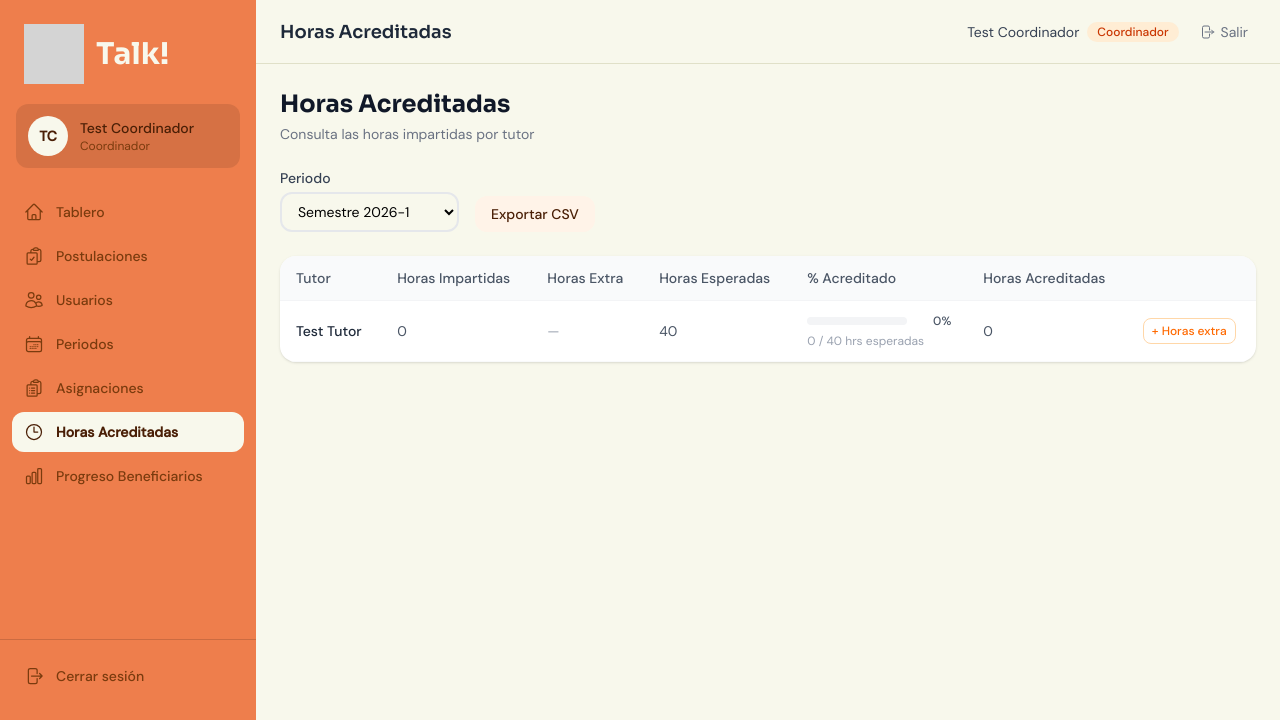
Test: INT-03 | Aprobado sin horas — coordinador acredita horas extra manualmente › Coordinador ve 0 horas impartidas y agrega horas extra al tutor manualmente
Expected: the text "0%" is shown, [933,313,951,329]
Click the button "+ Horas extra" at [1190, 331], box [1143,318,1236,344]
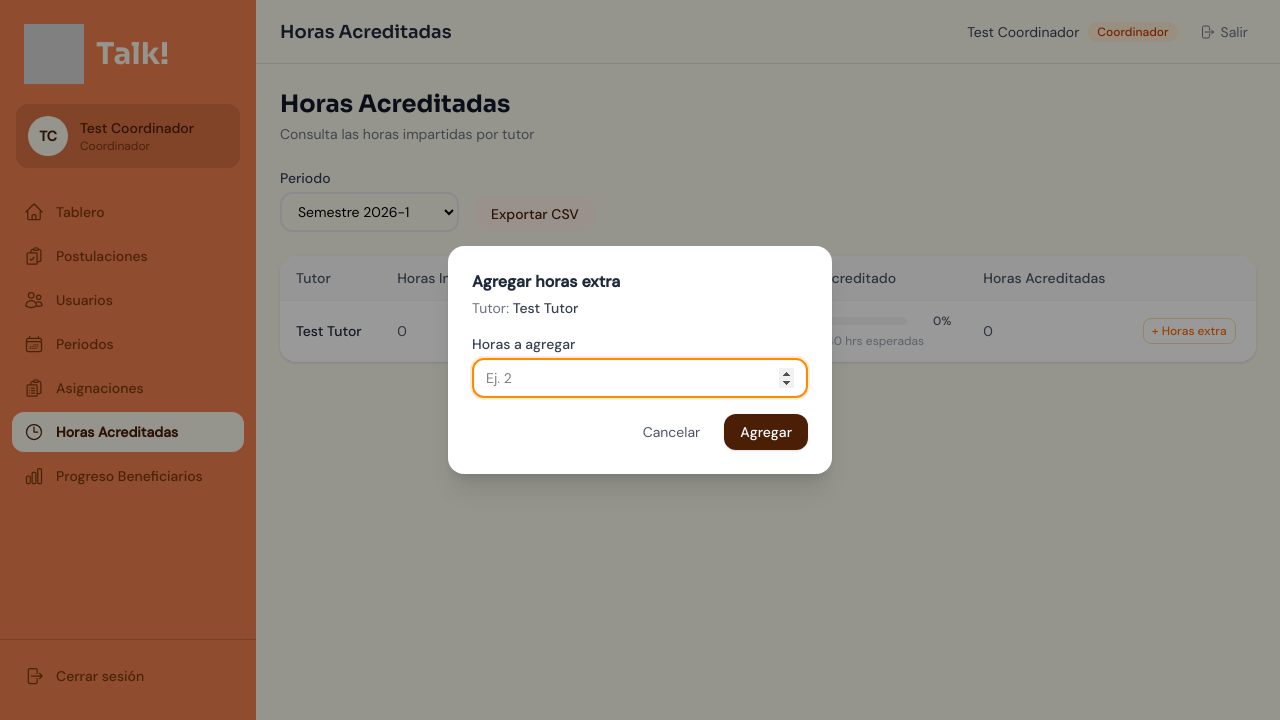
Now the heading "Agregar horas extra" is shown, box [472,271,620,292]
Type "1" into the number field with placeholder "Ej. 2" at [640, 378], box [472,358,808,398]
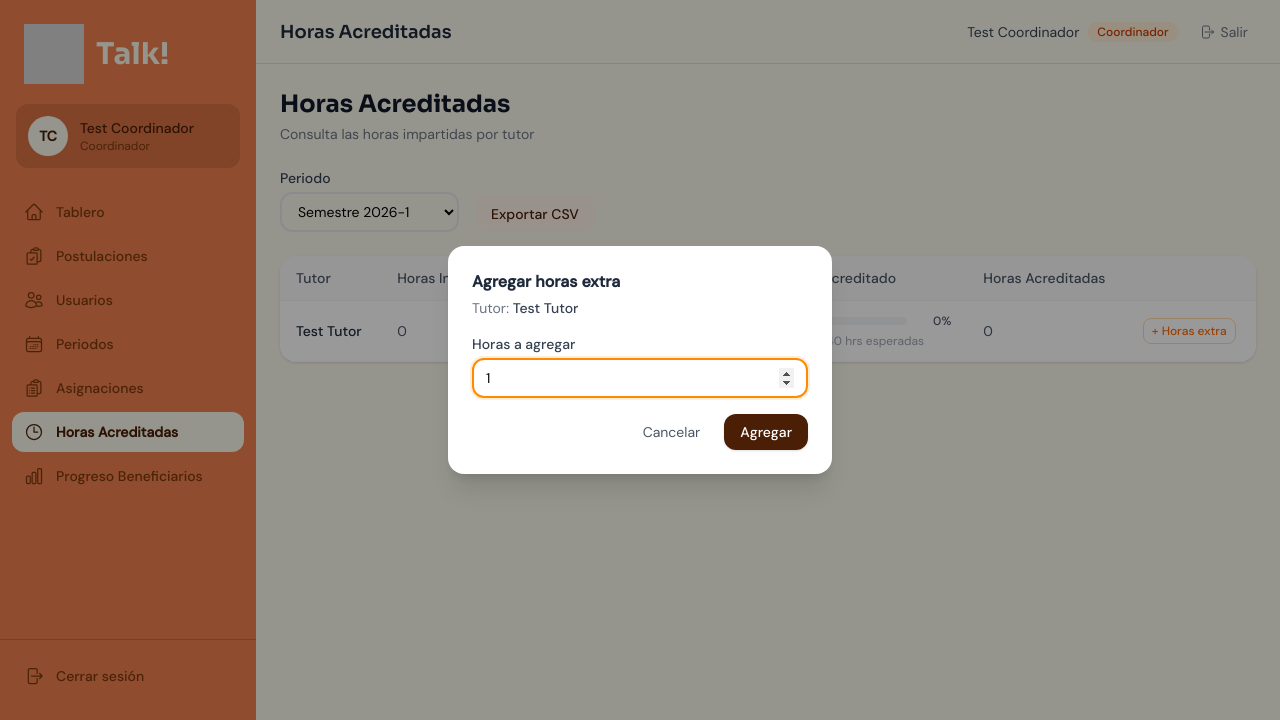
Click the button "Agregar" at [766, 432], box [724,414,808,450]
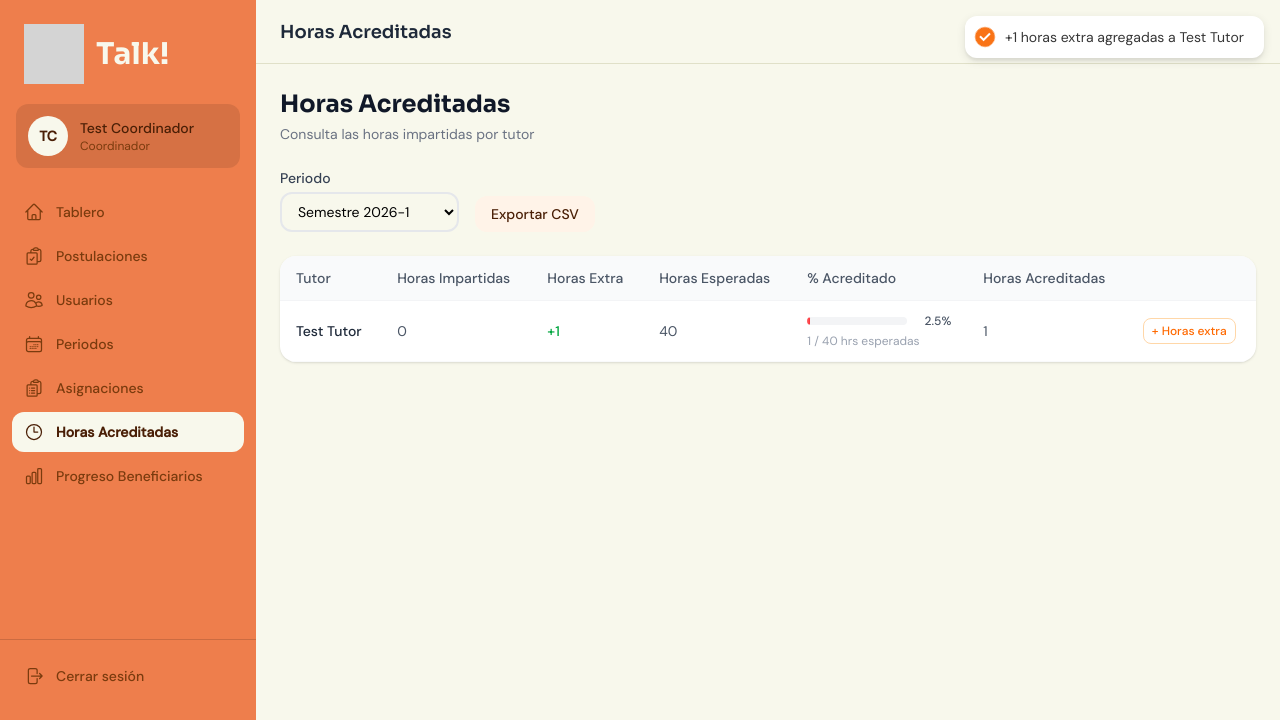
Now the text "horas extra agregadas" is shown, box [1005,28,1244,46]
